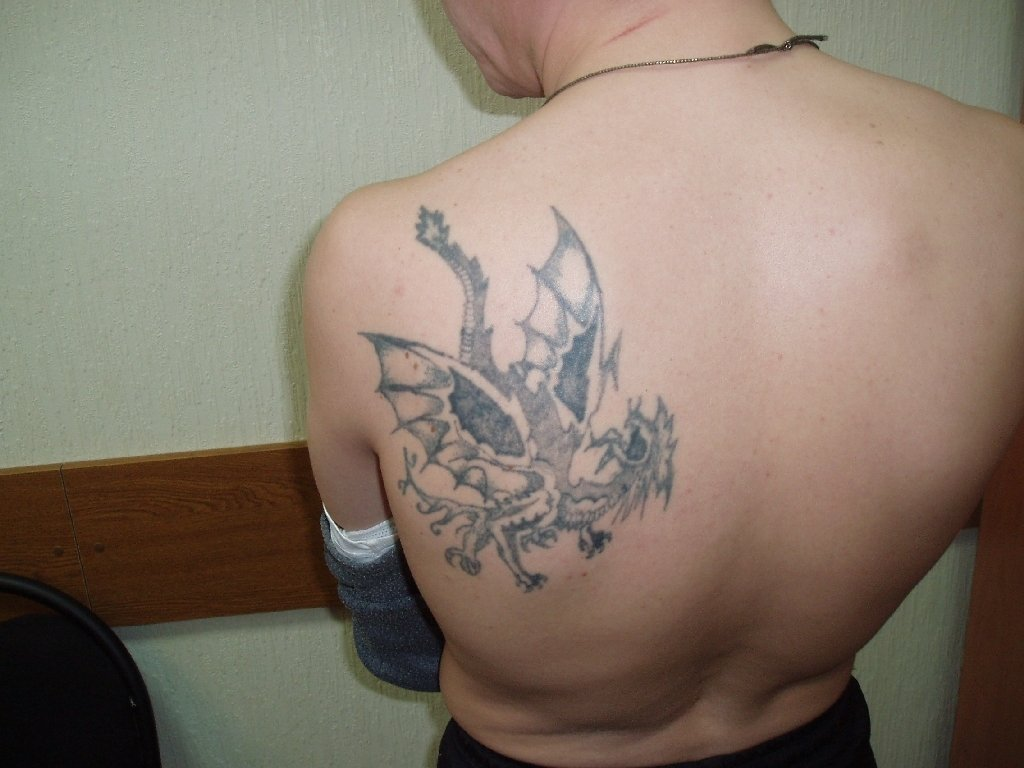tatu6_drakon: (332, 174, 695, 605)
